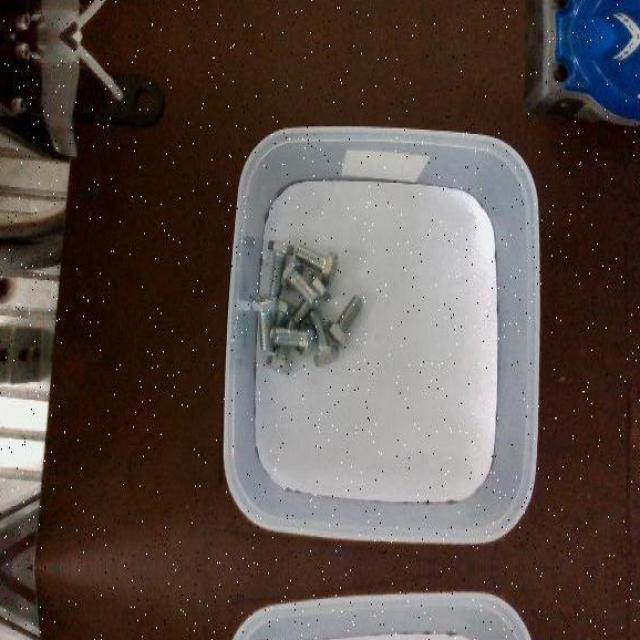screw: (326, 294, 362, 346), (281, 260, 320, 306), (294, 244, 338, 284), (270, 322, 315, 358), (268, 239, 293, 295)
